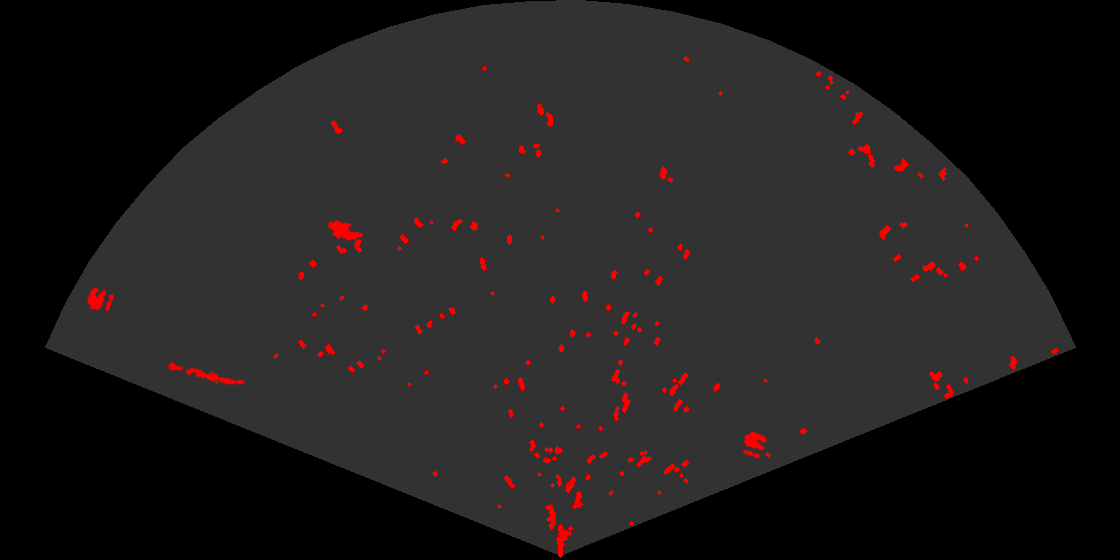AUV: (326, 219, 365, 243)
ball: (85, 285, 116, 313), (741, 430, 769, 460)
chain: (163, 361, 247, 387)
